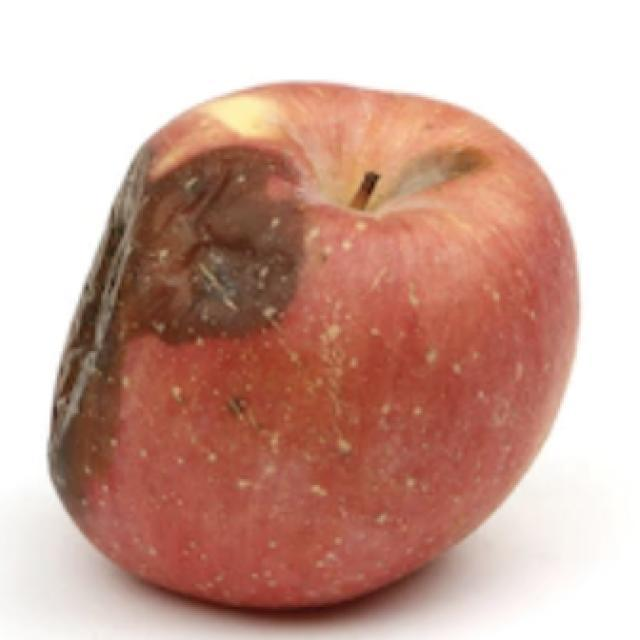Rotten: (55, 75, 587, 622)
